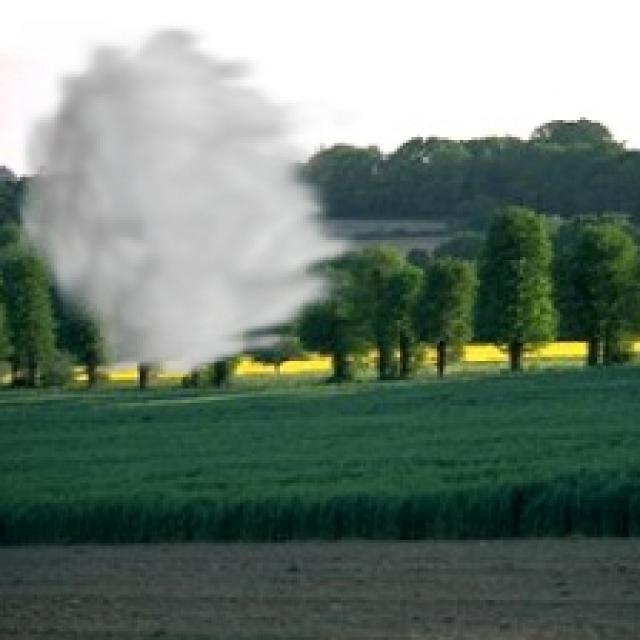Smoke: (9, 20, 372, 383)
